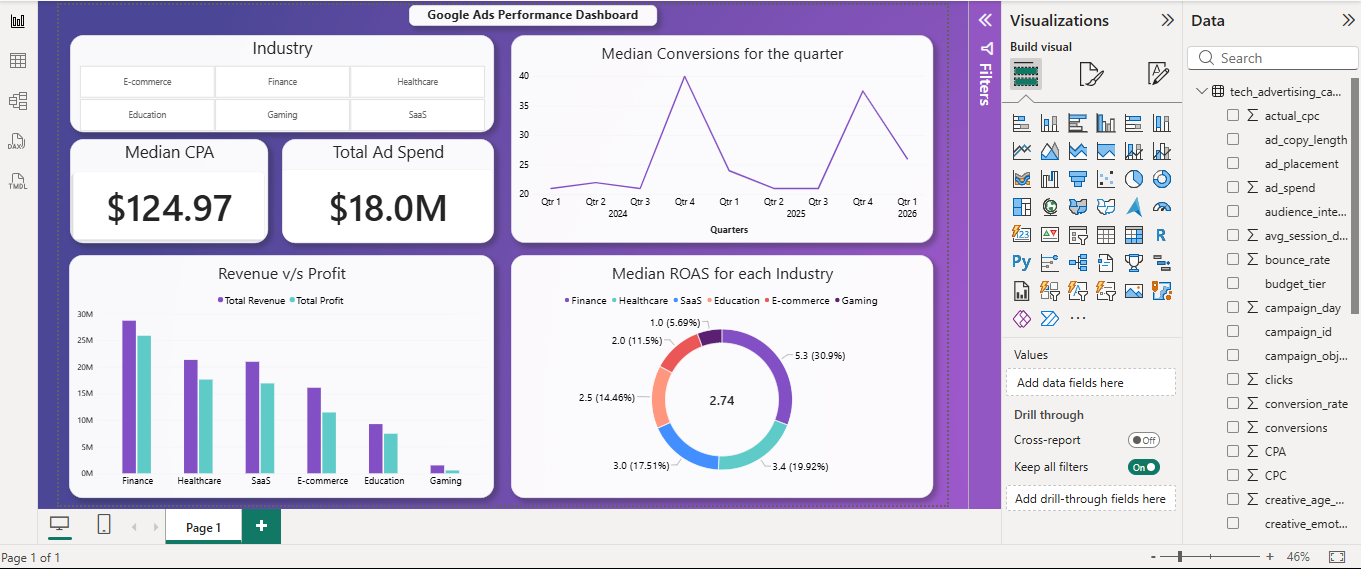

What the dashboard file says about the page in this screenshot:
{"tool":"powerbi","page":{"name":"Page 1","canvas":[1920,1080],"ordinal":0},"visuals":[{"type":"slicer","title":"Industry ","fields":{"Values":["tech_advertising_campaigns_dataset.industry_vertical"]},"box":[23.8,64.8,915.8,209.5],"z":0},{"type":"lineChart","title":"Median Conversions for the quarter","fields":{"Category":["tech_advertising_campaigns_dataset.start_date.Variation.Date Hierarchy.Year","tech_advertising_campaigns_dataset.start_date.Variation.Date Hierarchy.Quarter"],"Y":["Median(tech_advertising_campaigns_dataset.conversions)"]},"box":[976.3,64.8,911.5,449.3],"z":1000},{"type":"clusteredColumnChart","title":"Revenue v/s Profit","fields":{"Category":["tech_advertising_campaigns_dataset.industry_vertical"],"Y":["Sum(tech_advertising_campaigns_dataset.revenue)","Sum(tech_advertising_campaigns_dataset.profit)"]},"box":[21.6,540,918,524.9],"z":2000},{"type":"donutChart","title":"Median ROAS for each Industry","fields":{"Category":["tech_advertising_campaigns_dataset.industry_vertical"],"Y":["Median(tech_advertising_campaigns_dataset.ROAS)"]},"box":[976.3,540,911.5,524.9],"z":3000},{"type":"cardVisual","title":"Median CPA","fields":{"Data":["Median(tech_advertising_campaigns_dataset.CPA)"]},"box":[23.8,289.4,427.7,224.6],"z":4000},{"type":"cardVisual","title":"Total Ad Spend","fields":{"Data":["Sum(tech_advertising_campaigns_dataset.ad_spend)"]},"box":[481.7,289.4,457.9,224.6],"z":5000},{"type":"textbox","box":[756,0,535.7,45.4],"z":6000}]}

Visuals, with their boxes on the page's 1920x1080 design canvas (x1, y1, x2, y2). These are canvas units, not pixel positions in the 1361x569 screenshot, which may show the page scaled, cropped or inside an application window:
"Industry " slicer: bbox=(24, 65, 940, 274)
"Median Conversions for the quarter" lineChart: bbox=(976, 65, 1888, 514)
"Revenue v/s Profit" clusteredColumnChart: bbox=(22, 540, 940, 1065)
"Median ROAS for each Industry" donutChart: bbox=(976, 540, 1888, 1065)
"Median CPA" cardVisual: bbox=(24, 289, 452, 514)
"Total Ad Spend" cardVisual: bbox=(482, 289, 940, 514)
textbox: bbox=(756, 0, 1292, 45)
